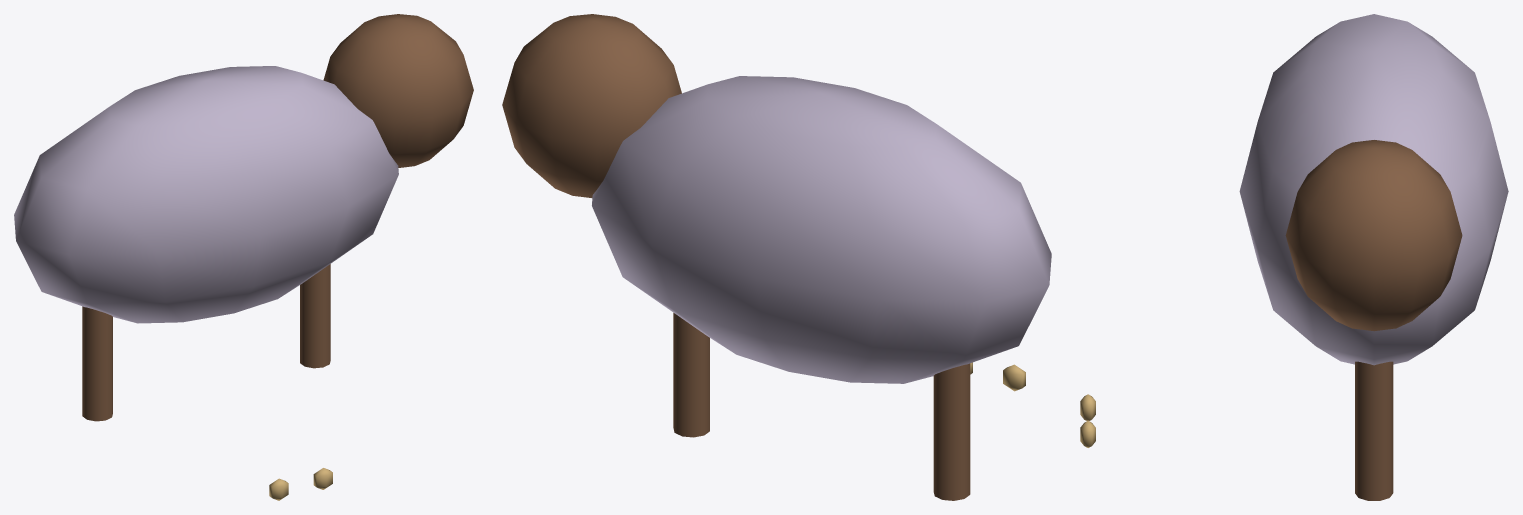
3 renders of one model, left to right at view 1: azimuth 30°, elevation 25°; view 2: azimuth 150°, elevation 25°; view 3: azimuth 270°, elevation 25°, orthographic. The views are drawn at different scales.
Visible parts, largest first — view 1: st11; view 2: st11; view 3: st11.
Part boxes in pixels (x1,y1,x2,y2): st11: (14, 14, 473, 500); st11: (502, 14, 1051, 500); st11: (1080, 14, 1508, 500).
Size of the model in its own units: 0.3548 by 0.2553 by 0.2396.
